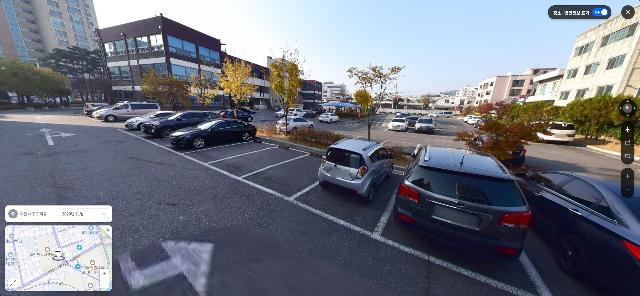ginkgo: (264, 36, 317, 137), (215, 52, 259, 120), (188, 53, 220, 112), (352, 88, 373, 118)
other: (454, 97, 557, 166), (345, 64, 406, 142), (36, 45, 111, 108), (556, 92, 639, 146), (1, 56, 69, 112), (139, 63, 190, 111), (515, 100, 557, 129)
